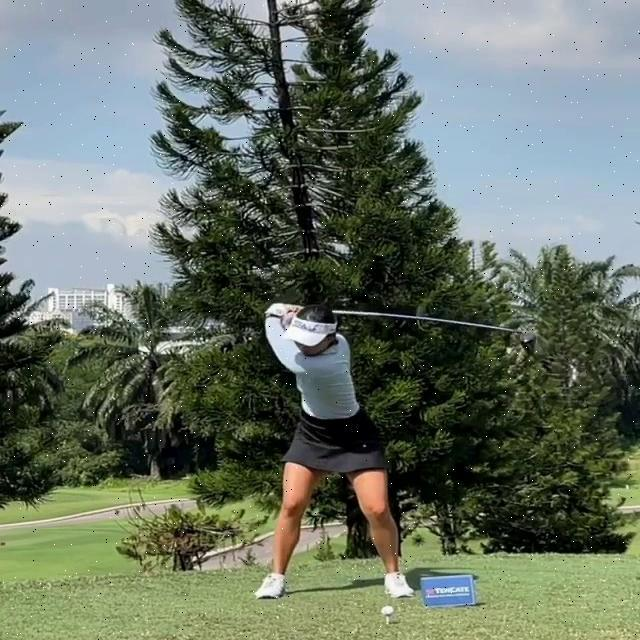ClubHead: (520, 332, 537, 356), (381, 606, 394, 616)
